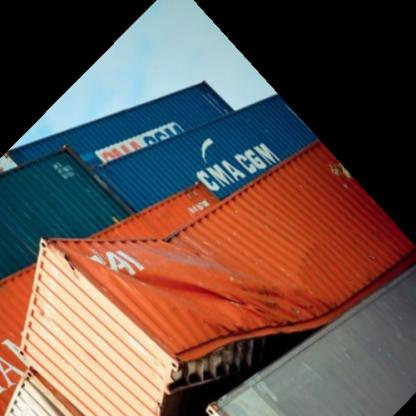Damage: (57, 242, 340, 378)
